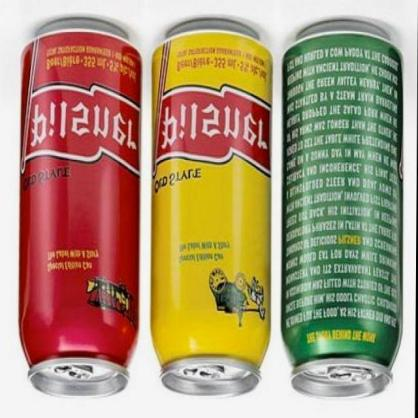can: (14, 15, 147, 403), (149, 19, 276, 399), (280, 20, 404, 401)
